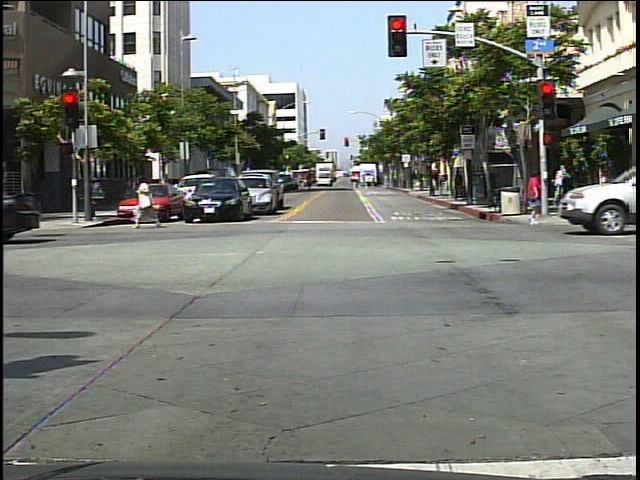person: (132, 171, 163, 235), (523, 168, 549, 229), (549, 160, 570, 212)
